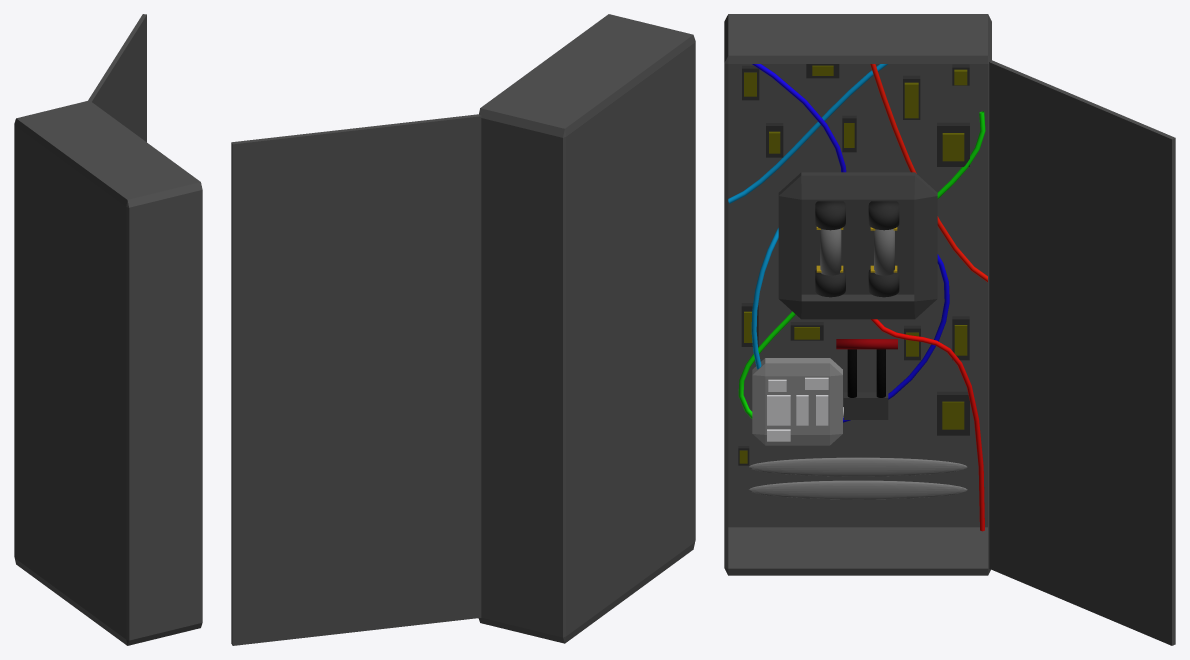
Rendered from Электрощиток2.fbx.
The picture shows the model from 3 angles, left to right: view 1: azimuth 30°, elevation 25°; view 2: azimuth 150°, elevation 25°; view 3: azimuth 270°, elevation 25°; orthographic projection. The views are drawn at different scales.
Visible parts, largest first — view 1: Cube, Куб; view 2: Куб, Cube; view 3: Cube, Куб, Cube.001, Cube.026, Sphere, Sphere.001, Cylinder.006, Cylinder.004, BézierCurve.003, Cube.035, BézierCurve.002, BézierCurve.007 (+10 smaller).
Part boxes in pixels (x1=…): Cube: x1=14, y1=100, x2=202, y2=645; Куб: x1=88, y1=14, x2=146, y2=141; Куб: x1=231, y1=114, x2=481, y2=645; Cube: x1=478, y1=14, x2=695, y2=643; Cube: x1=724, y1=14, x2=991, y2=575; Куб: x1=989, y1=60, x2=1175, y2=645; Cube.001: x1=778, y1=172, x2=937, y2=319; Cube.026: x1=752, y1=358, x2=842, y2=445; Sphere: x1=749, y1=480, x2=967, y2=499; Sphere.001: x1=749, y1=457, x2=967, y2=476; Cylinder.006: x1=815, y1=201, x2=845, y2=297; Cylinder.004: x1=868, y1=201, x2=899, y2=297; BézierCurve.003: x1=871, y1=319, x2=984, y2=531; Cube.035: x1=843, y1=392, x2=888, y2=419; BézierCurve.002: x1=870, y1=64, x2=987, y2=282; BézierCurve.007: x1=728, y1=64, x2=887, y2=203.
Bounding box in the file's own units: 219 × 441 × 347.
